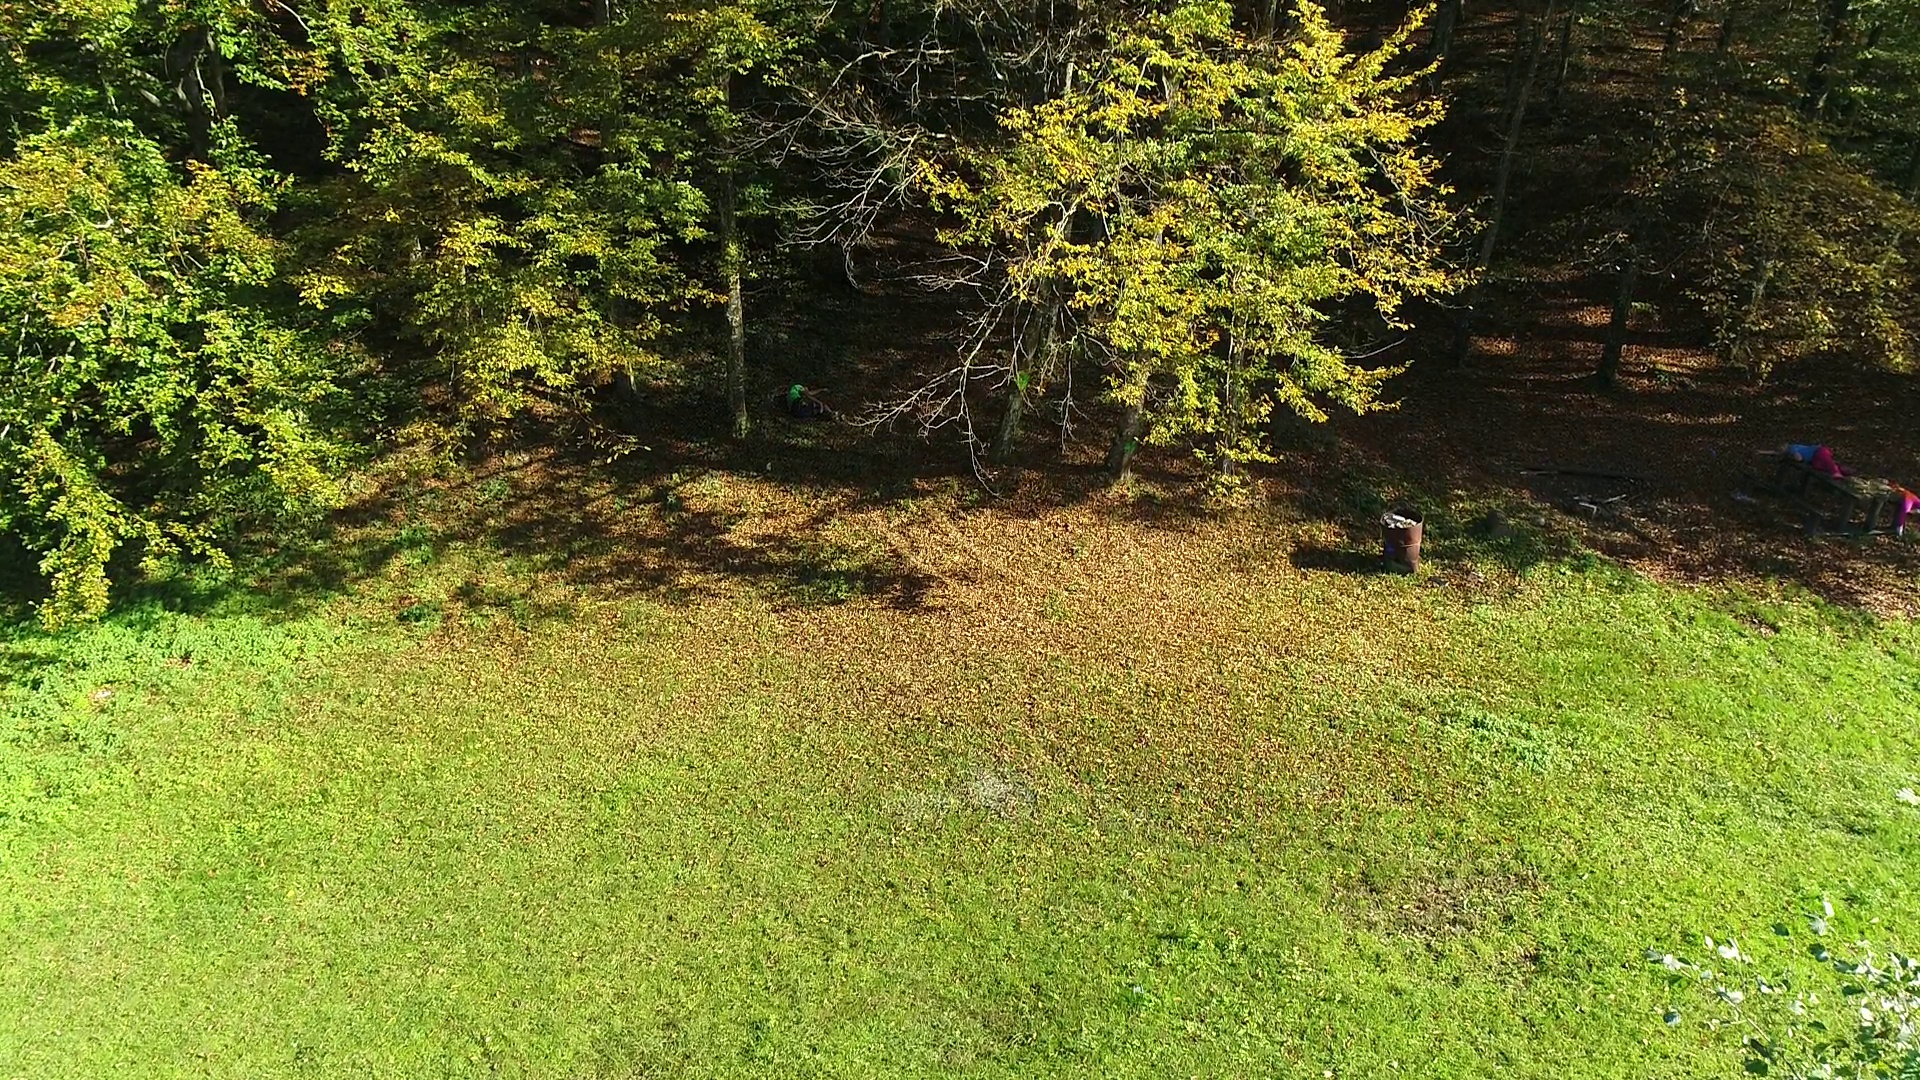not_defined: (1889, 479, 1920, 539)
person: (1754, 441, 1855, 480), (788, 383, 847, 422)
